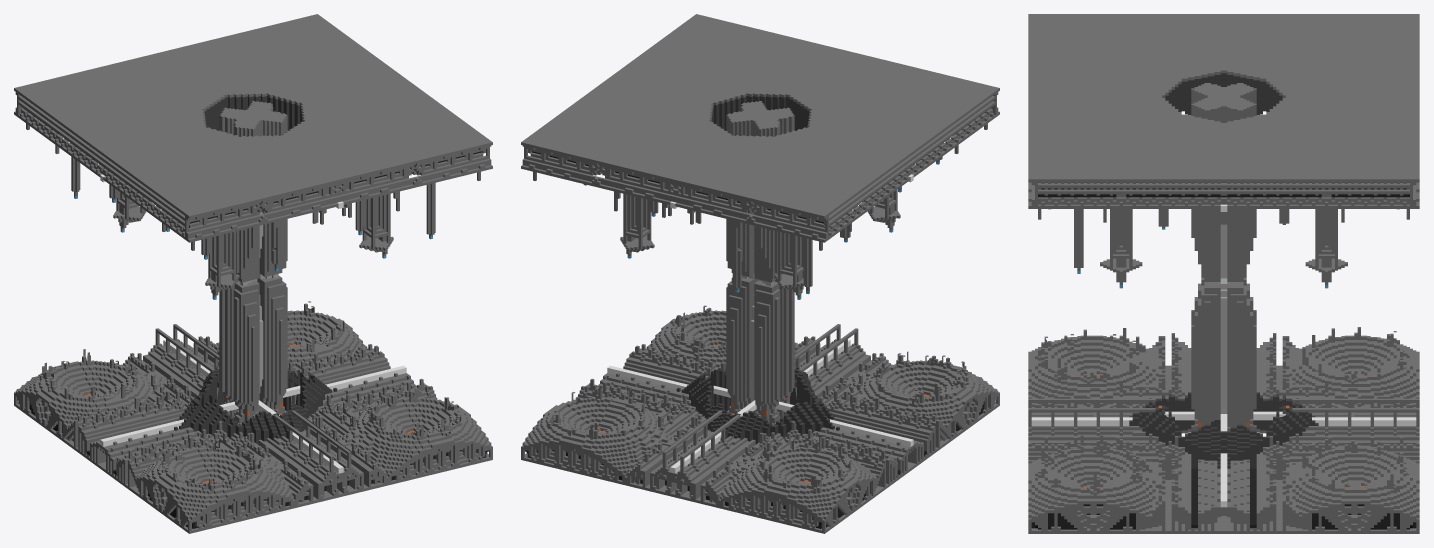
File: scifi_Middle_fbx.fbx
The picture shows the model from 3 angles, left to right: view 1: azimuth 30°, elevation 25°; view 2: azimuth 150°, elevation 25°; view 3: azimuth 270°, elevation 25°; orthographic projection. The views are drawn at different scales.
Visible parts, largest first — view 1: scifi_export_Middle; view 2: scifi_export_Middle; view 3: scifi_export_Middle.
Part boxes in pixels (box(x1,y1,x2,y2)): scifi_export_Middle: box(14, 14, 492, 533); scifi_export_Middle: box(521, 14, 999, 533); scifi_export_Middle: box(1028, 14, 1419, 533).
Bounding box in the file's own units: 120 × 120 × 120.
